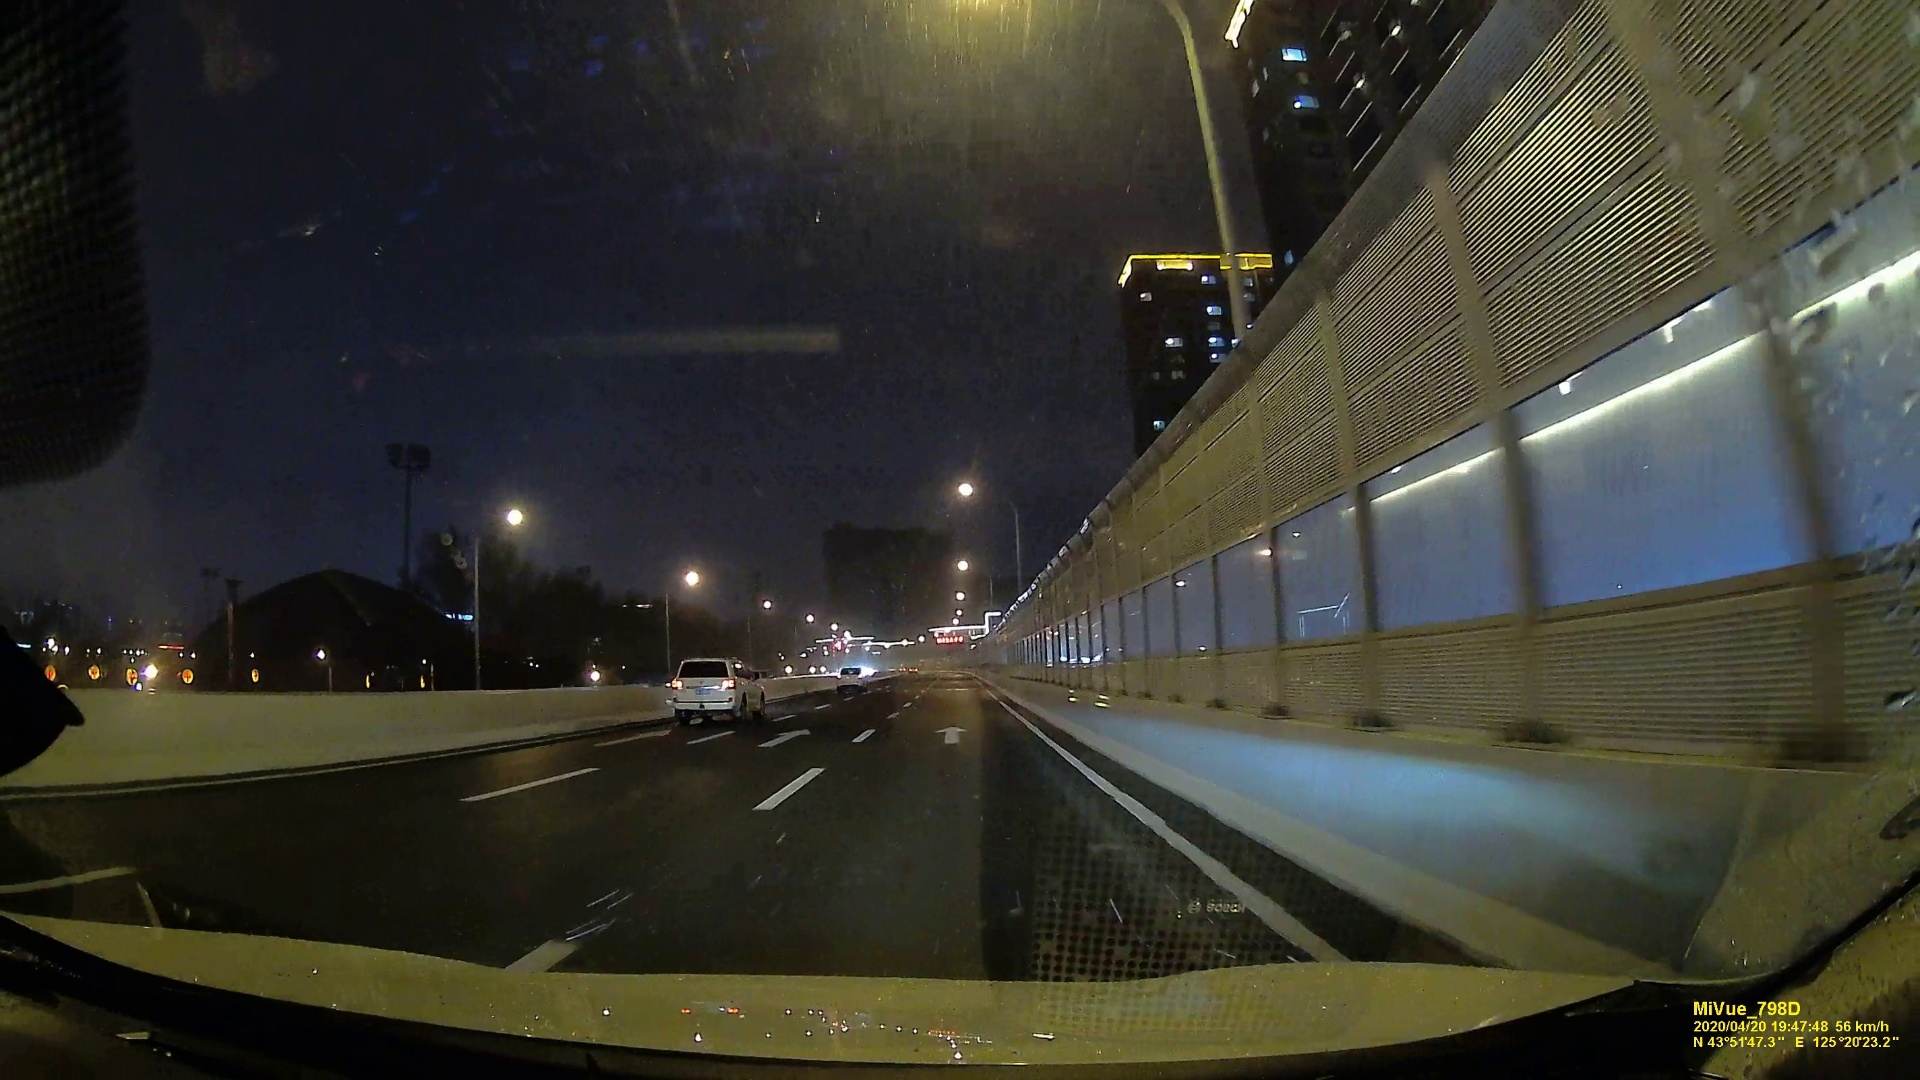vehicle: (669, 659, 769, 727), (835, 666, 866, 694)
